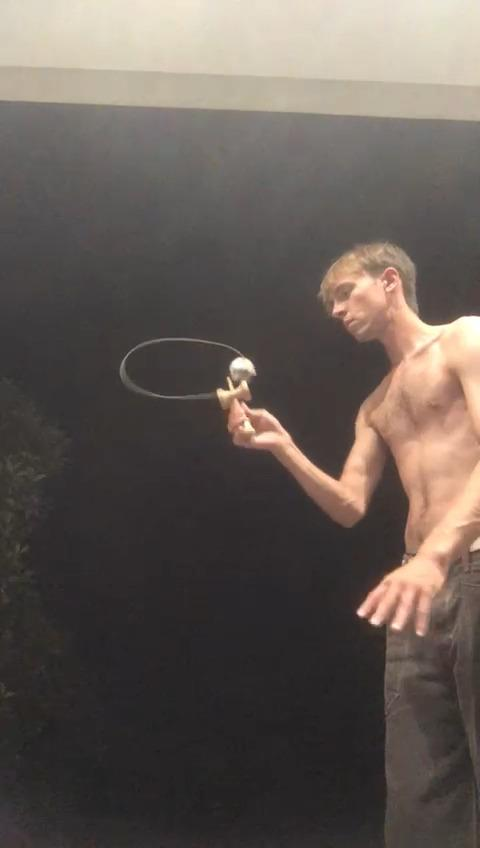kendama_ball: (230, 357, 255, 382)
